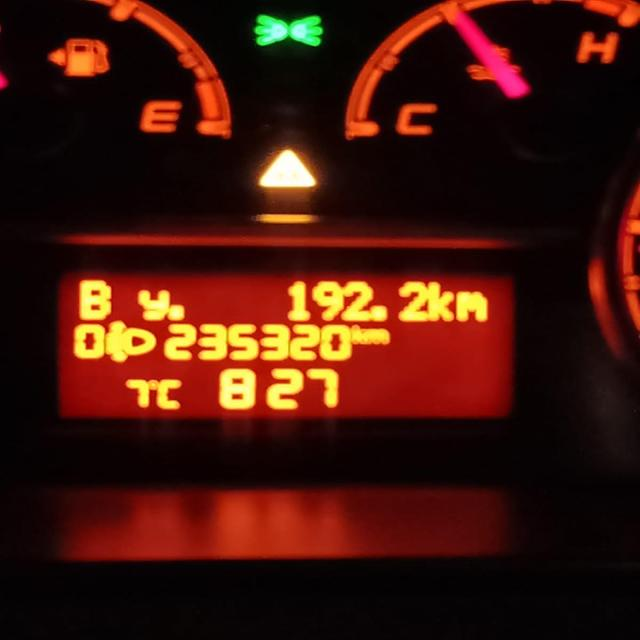odometer: (50, 263, 521, 427)
